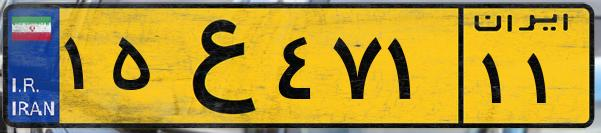1: (385, 28, 445, 110), (57, 26, 110, 100), (475, 38, 525, 113), (525, 38, 570, 115)
4: (270, 28, 330, 110)
5: (110, 28, 158, 98)
7: (330, 28, 385, 110)
ع: (158, 12, 270, 120)
